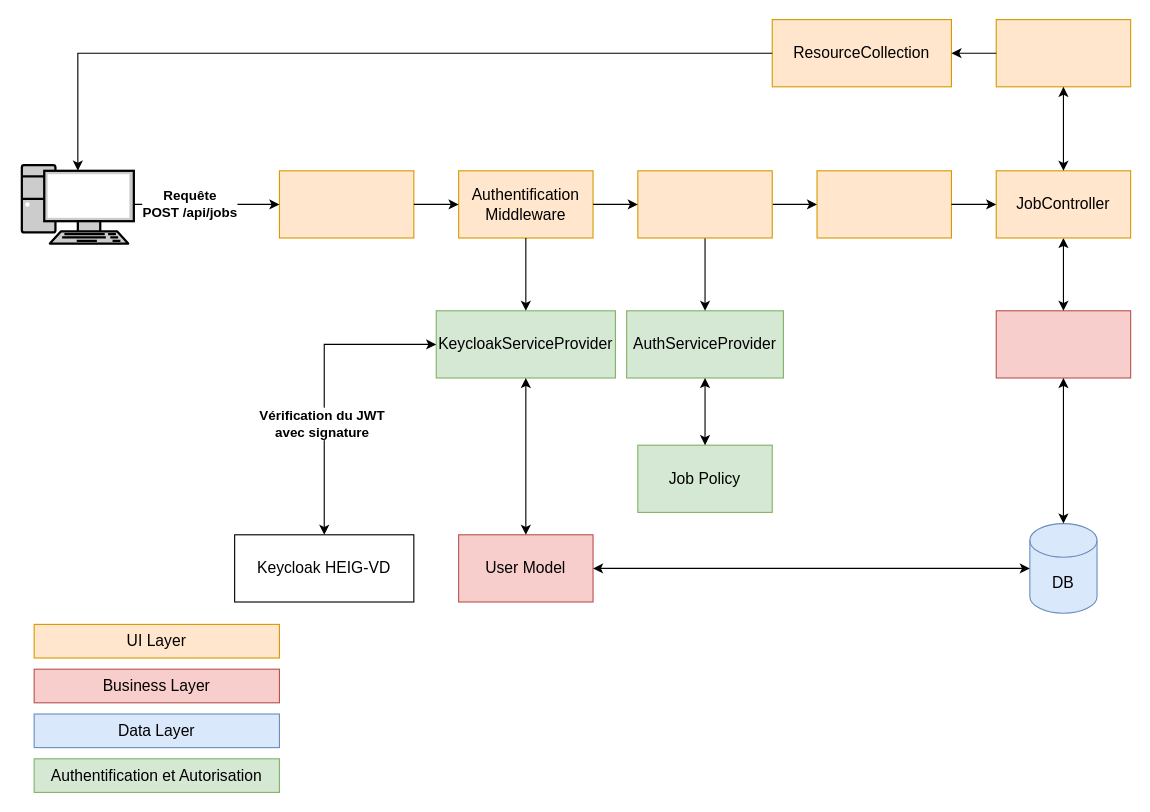
The diagram is 1150 pixels wide and 812 high, and some of its shapes have lost their labels. Here are the shapes that lost their labels. From the top down, the box of each, then its label:
(995, 18, 1131, 87): Job Resource
(20, 164, 134, 244): Client / Frontend
(278, 170, 414, 238): Route
(637, 170, 772, 238): Authorization Middleware
(816, 170, 951, 238): JobRequest
(995, 310, 1131, 378): Job Model
